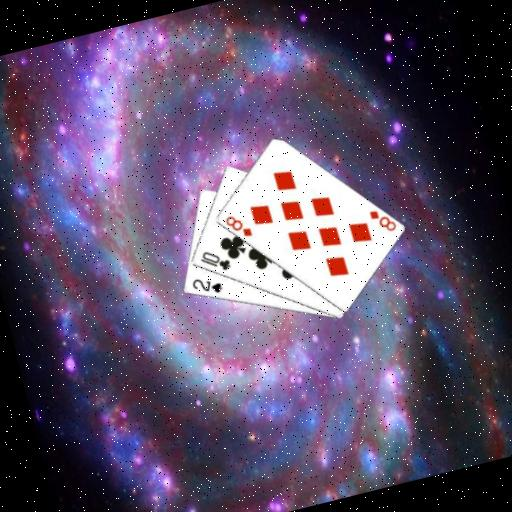10C: (195, 243, 233, 278)
2S: (188, 271, 225, 301)
8D: (220, 208, 254, 243), (366, 203, 399, 238)
